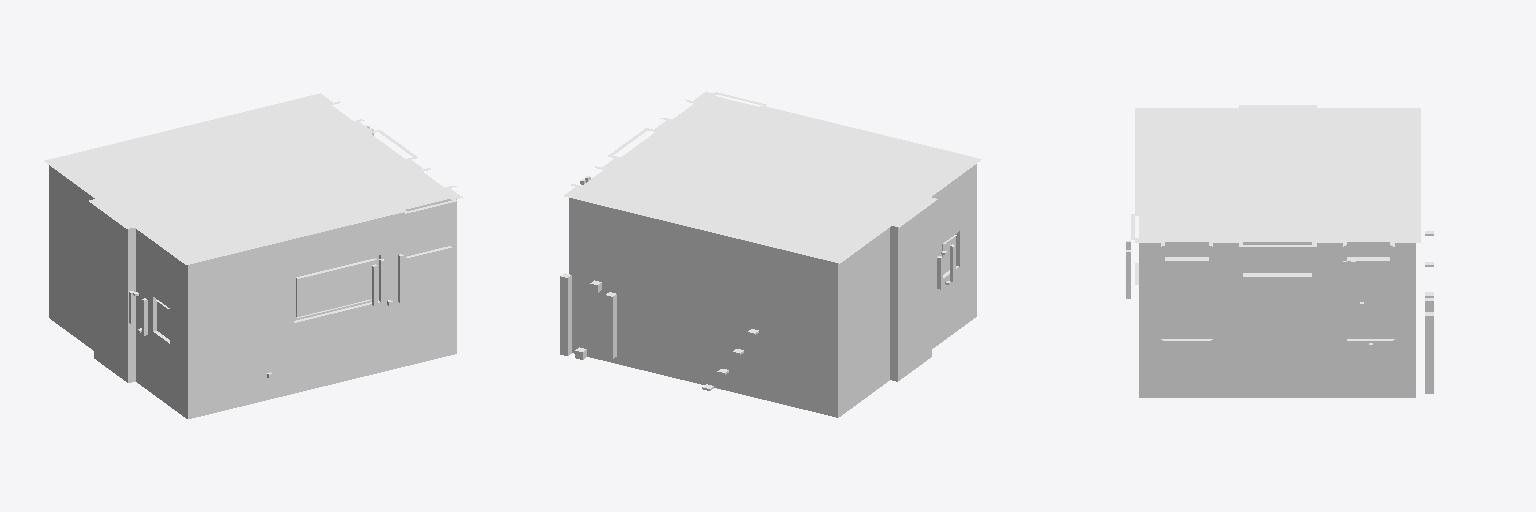
Rendered from MAP97_ZimsBase.obj.
3 renders of one model, left to right at view 1: azimuth 30°, elevation 25°; view 2: azimuth 150°, elevation 25°; view 3: azimuth 270°, elevation 25°, orthographic.
Parts seen in each view (by area): view 1: MAP97; view 2: MAP97; view 3: MAP97.
Part boxes in pixels (bbox=[...]): MAP97: bbox=[44, 93, 462, 418]; MAP97: bbox=[560, 92, 981, 417]; MAP97: bbox=[1126, 105, 1433, 397].
Bounding box in the file's own units: 5120 × 2560 × 4544.